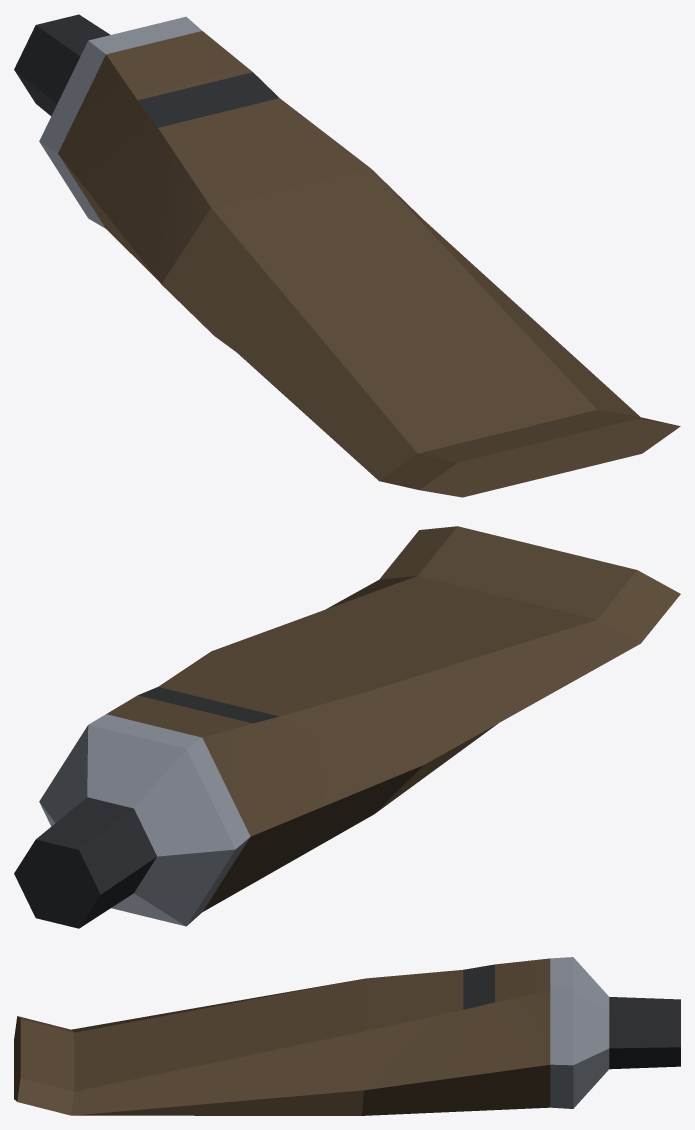
The model's file is SM_Item_Meal_Tube_01.fbx.
3 views of the same model, one above another, from view 1: azimuth 30°, elevation 25°; view 2: azimuth 150°, elevation 25°; view 3: azimuth 270°, elevation 25° (orthographic). The views are drawn at different scales.
Parts seen in each view (by area): view 1: SM_Item_Meal_Tube_01; view 2: SM_Item_Meal_Tube_01; view 3: SM_Item_Meal_Tube_01.
Part boxes in pixels (x1=…): SM_Item_Meal_Tube_01: x1=14, y1=14, x2=680, y2=497; SM_Item_Meal_Tube_01: x1=14, y1=526, x2=680, y2=928; SM_Item_Meal_Tube_01: x1=14, y1=957, x2=680, y2=1115.
Size of the model in its own units: 9.76 by 6.31 by 31.83.
